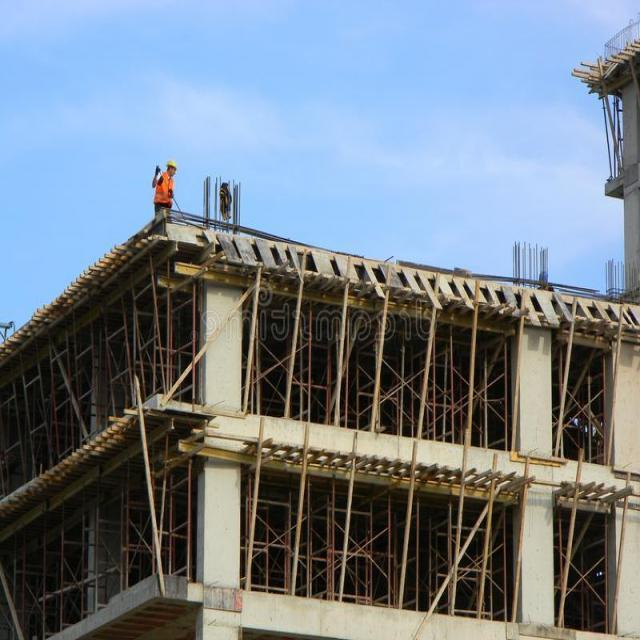Reflective-Jacket: (154, 172, 175, 207)
Safety-Helmet: (165, 158, 179, 173)
